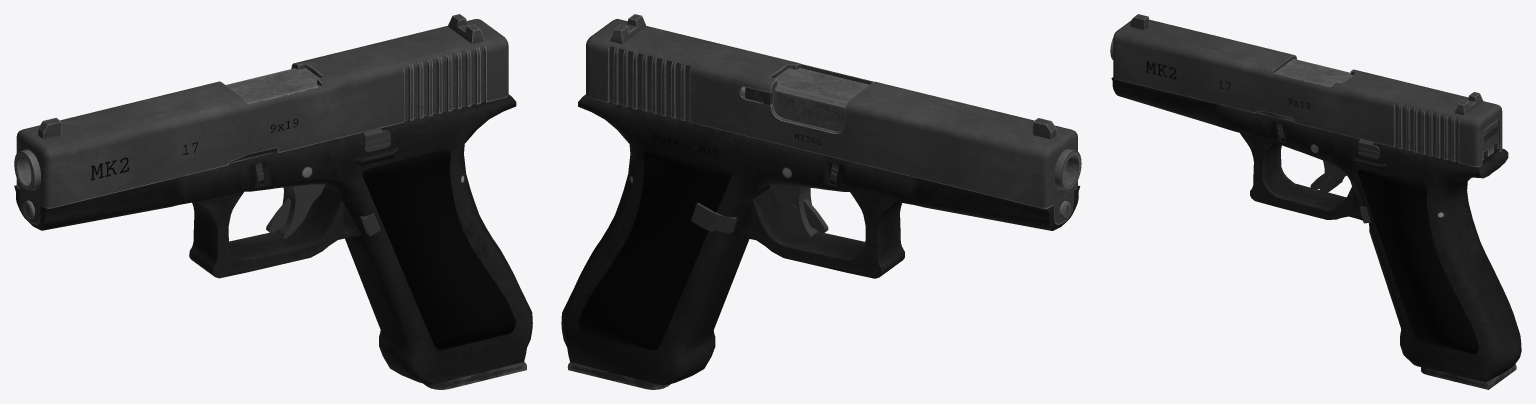
File: 9mm_pistol.glb
3 views of the same model, side by side, from view 1: azimuth 30°, elevation 25°; view 2: azimuth 150°, elevation 25°; view 3: azimuth 330°, elevation 25° (orthographic). The views are drawn at different scales.
Size of the model in its own units: 2.4 by 1.58 by 0.334.
2 materials, 2 textured.
